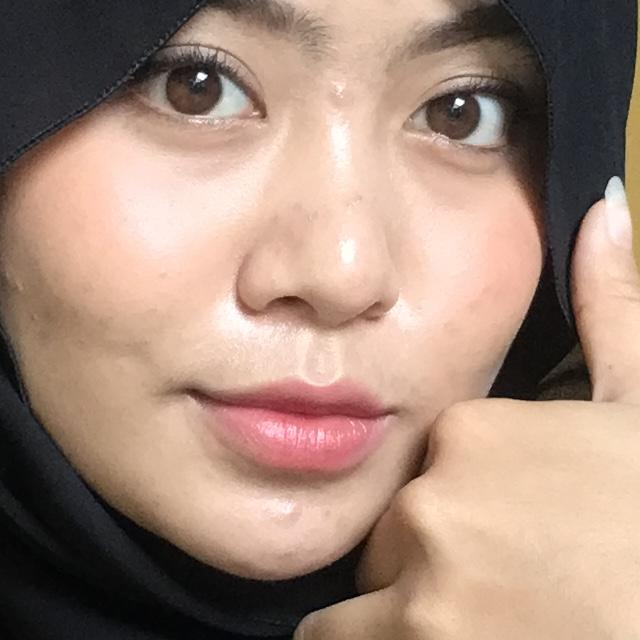telpon: (200, 146, 640, 640)
